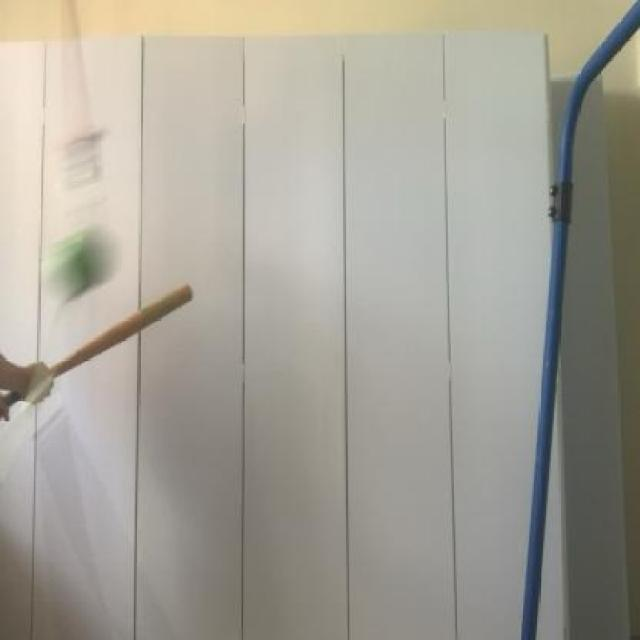baseball: (44, 215, 128, 307)
